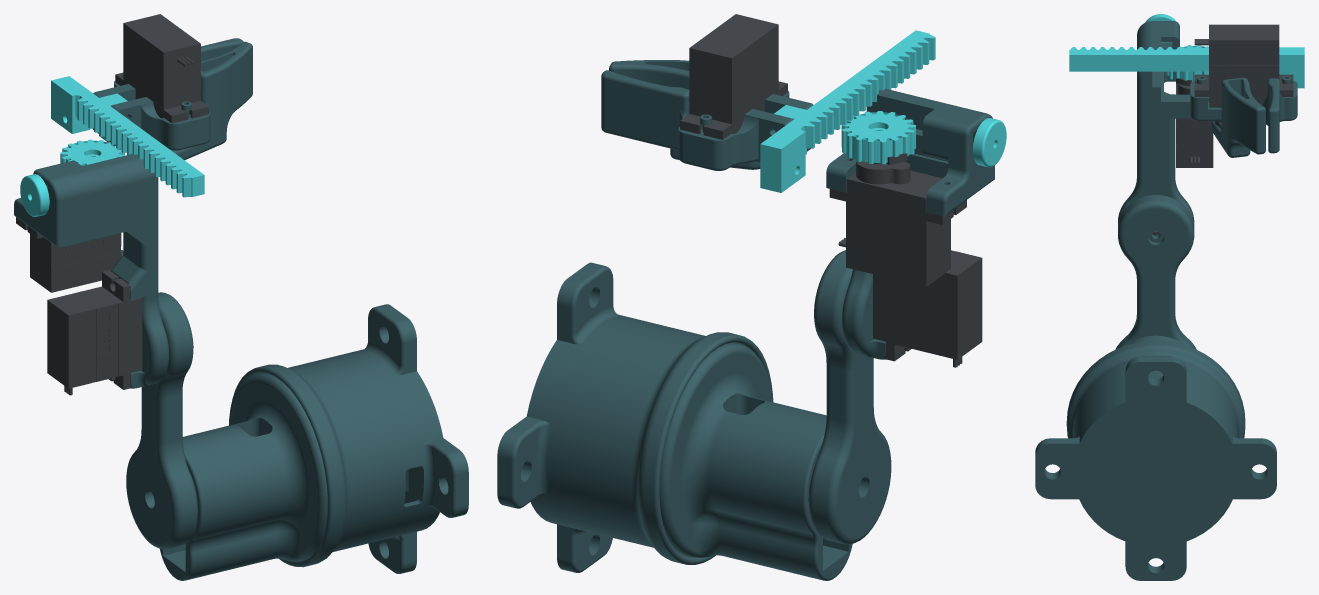
The model's file is scara-web.glb.
The picture shows the model from 3 angles, left to right: view 1: azimuth 30°, elevation 25°; view 2: azimuth 150°, elevation 25°; view 3: azimuth 270°, elevation 25°; orthographic projection. The views are drawn at different scales.
Visible parts, largest first — view 1: Solid1.012, Solid1.015, Solid1.008, Solid1.011, Solid1.009, Solid1.006, Solid1.003, Solid1, Solid1.005, Solid1.004, Solid1.002, Solid1.018; view 2: Solid1.012, Solid1.015, Solid1.011, Solid1, Solid1.008, Solid1.004, Solid1.006, Solid1.009, Solid1.003, Solid1.002, Solid1.005, Solid1.018 (+1 smaller); view 3: Solid1.012, Solid1.011, Solid1.008, Solid1.006, Solid1.003, Solid1.005, Solid1.004, Solid1.
Part boxes in pixels (x1,y1,x2,y2): Solid1.012: [229, 304, 468, 573]; Solid1.015: [160, 373, 327, 580]; Solid1.008: [14, 154, 168, 388]; Solid1.011: [126, 292, 197, 549]; Solid1.009: [47, 270, 142, 395]; Solid1.006: [115, 14, 208, 123]; Solid1.003: [51, 76, 204, 197]; Solid1: [16, 217, 123, 292]; Solid1.005: [171, 41, 252, 160]; Solid1.004: [92, 38, 243, 150]; Solid1.002: [60, 139, 124, 165]; Solid1.018: [20, 174, 49, 216]; Solid1.012: [497, 262, 773, 572]; Solid1.015: [659, 342, 852, 580]; Solid1.011: [809, 250, 891, 544]; Solid1: [829, 160, 966, 286]; Solid1.008: [826, 88, 994, 359]; Solid1.004: [601, 70, 813, 170]; Solid1.006: [680, 14, 787, 139]; Solid1.009: [873, 250, 982, 367]; Solid1.003: [760, 30, 935, 192]; Solid1.002: [841, 111, 915, 164]; Solid1.005: [609, 60, 760, 169]; Solid1.018: [973, 118, 1006, 167]; Solid1.012: [1035, 341, 1276, 580]; Solid1.011: [1115, 194, 1196, 349]; Solid1.008: [1118, 21, 1194, 226]; Solid1.006: [1194, 24, 1293, 107]; Solid1.003: [1069, 47, 1304, 88]; Solid1.005: [1211, 77, 1265, 157]; Solid1.004: [1190, 78, 1297, 153]; Solid1: [1176, 83, 1213, 167].
Size of the model in its own units: 0.1205 by 0.1691 by 0.0881.
